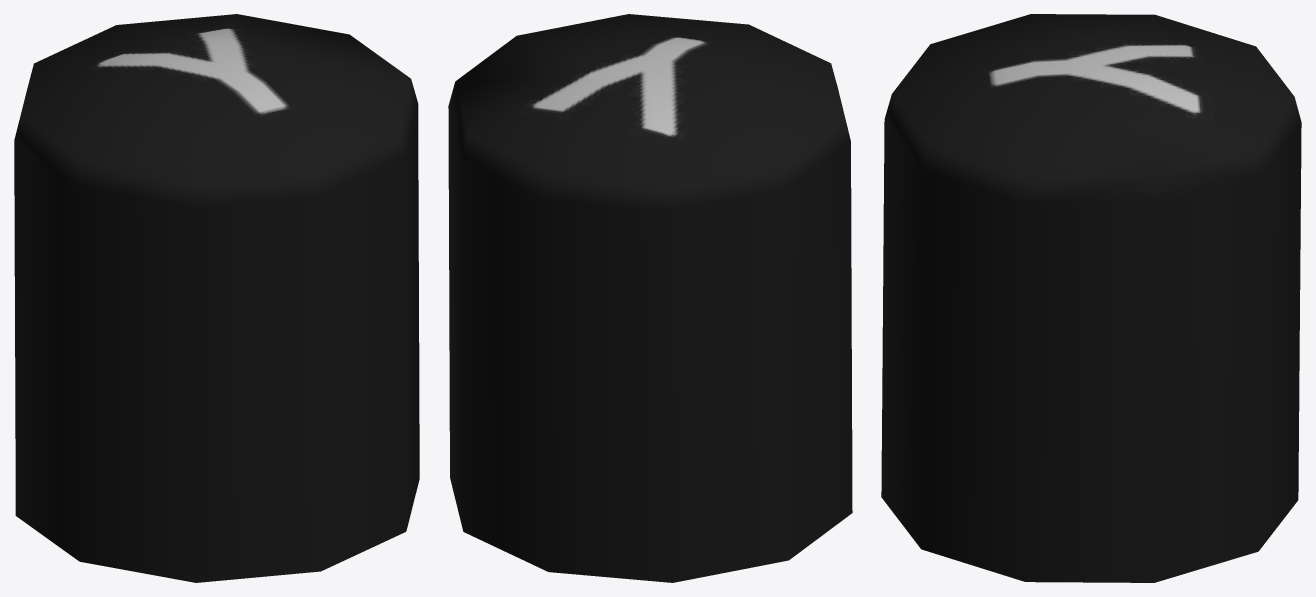
Rendered from crystal_controller_left_button5.obj.
3 views of the same model, side by side, from view 1: azimuth 30°, elevation 25°; view 2: azimuth 150°, elevation 25°; view 3: azimuth 270°, elevation 25° (orthographic).
Parts seen in each view (by area): view 1: crystal_controller_left_button5; view 2: crystal_controller_left_button5; view 3: crystal_controller_left_button5.
Part boxes in pixels (bbox=[...]): crystal_controller_left_button5: bbox=[14, 14, 419, 582]; crystal_controller_left_button5: bbox=[448, 14, 852, 582]; crystal_controller_left_button5: bbox=[881, 14, 1301, 582].
Size of the model in its own units: 0.00956 by 0.0116 by 0.0101.
1 material, 1 textured.
